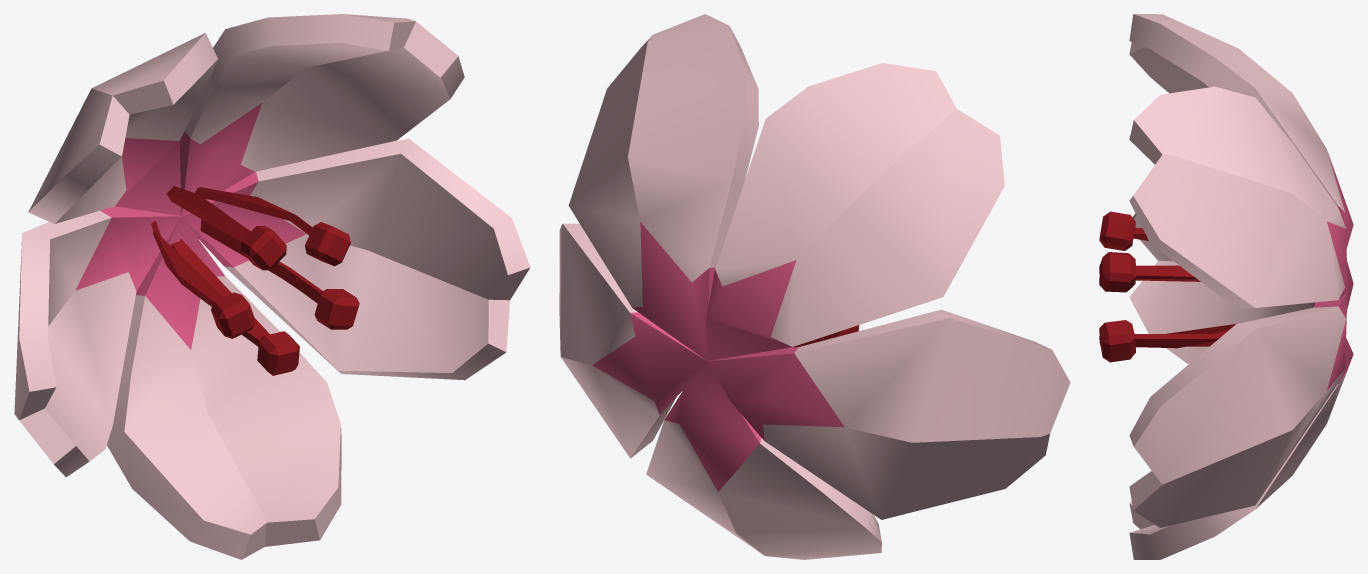
Rendered from cc0-sakura-flower-lod1.glb.
3 renders of one model, left to right at view 1: azimuth 30°, elevation 25°; view 2: azimuth 150°, elevation 25°; view 3: azimuth 270°, elevation 25°, orthographic. The views are drawn at different scales.
Visible parts, largest first — view 1: part_0; view 2: part_0; view 3: part_0.
Boxes of the visible parts, x1=… form: part_0: x1=14, y1=14, x2=530, y2=559; part_0: x1=559, y1=14, x2=1070, y2=559; part_0: x1=1099, y1=14, x2=1353, y2=559.
Bounding box in the file's own units: 0.9715 × 0.954 × 0.4495.
Materials: 1 (1 with a texture image).
